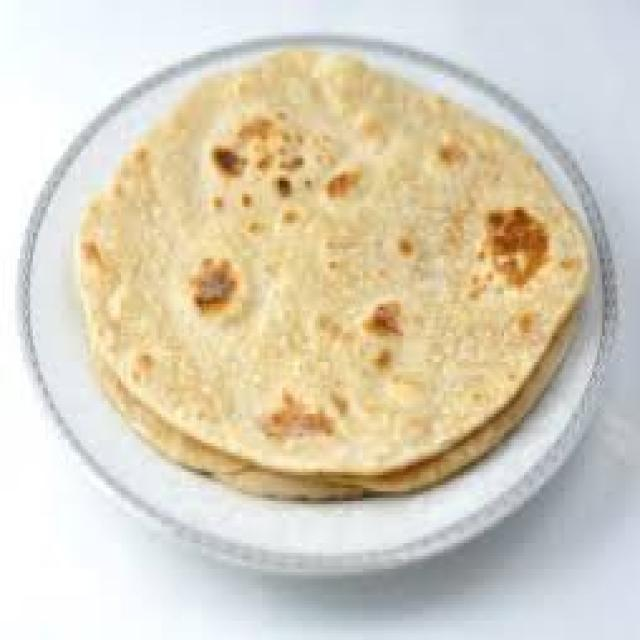chapathi: (68, 80, 570, 496)
